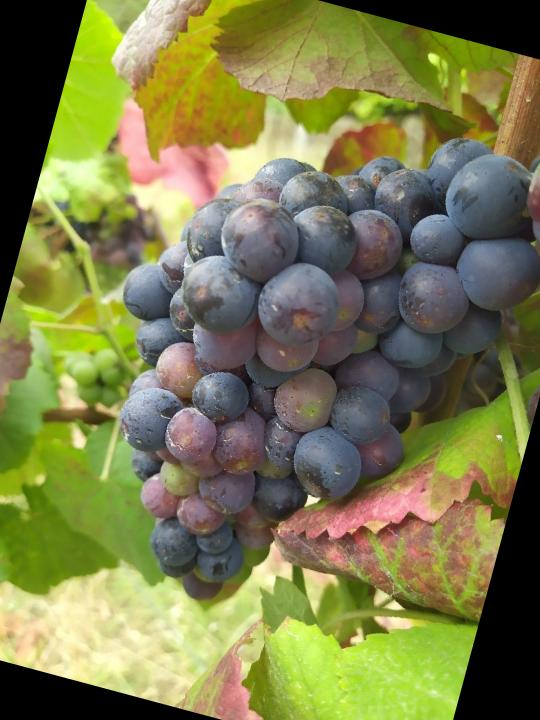grape: (41, 61, 540, 676)
